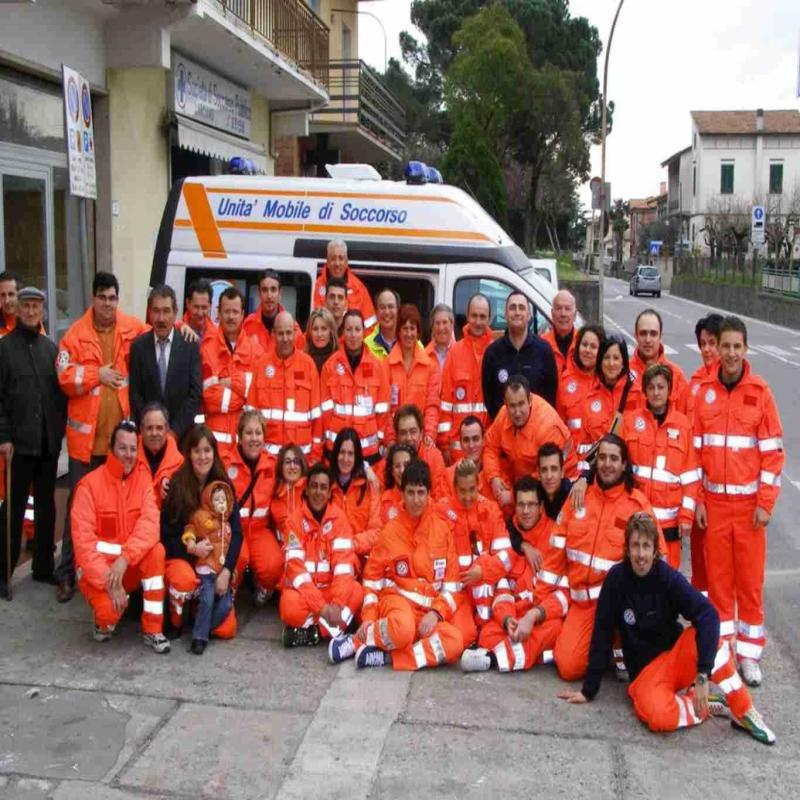AmbulanceSiren: (396, 156, 458, 202)
